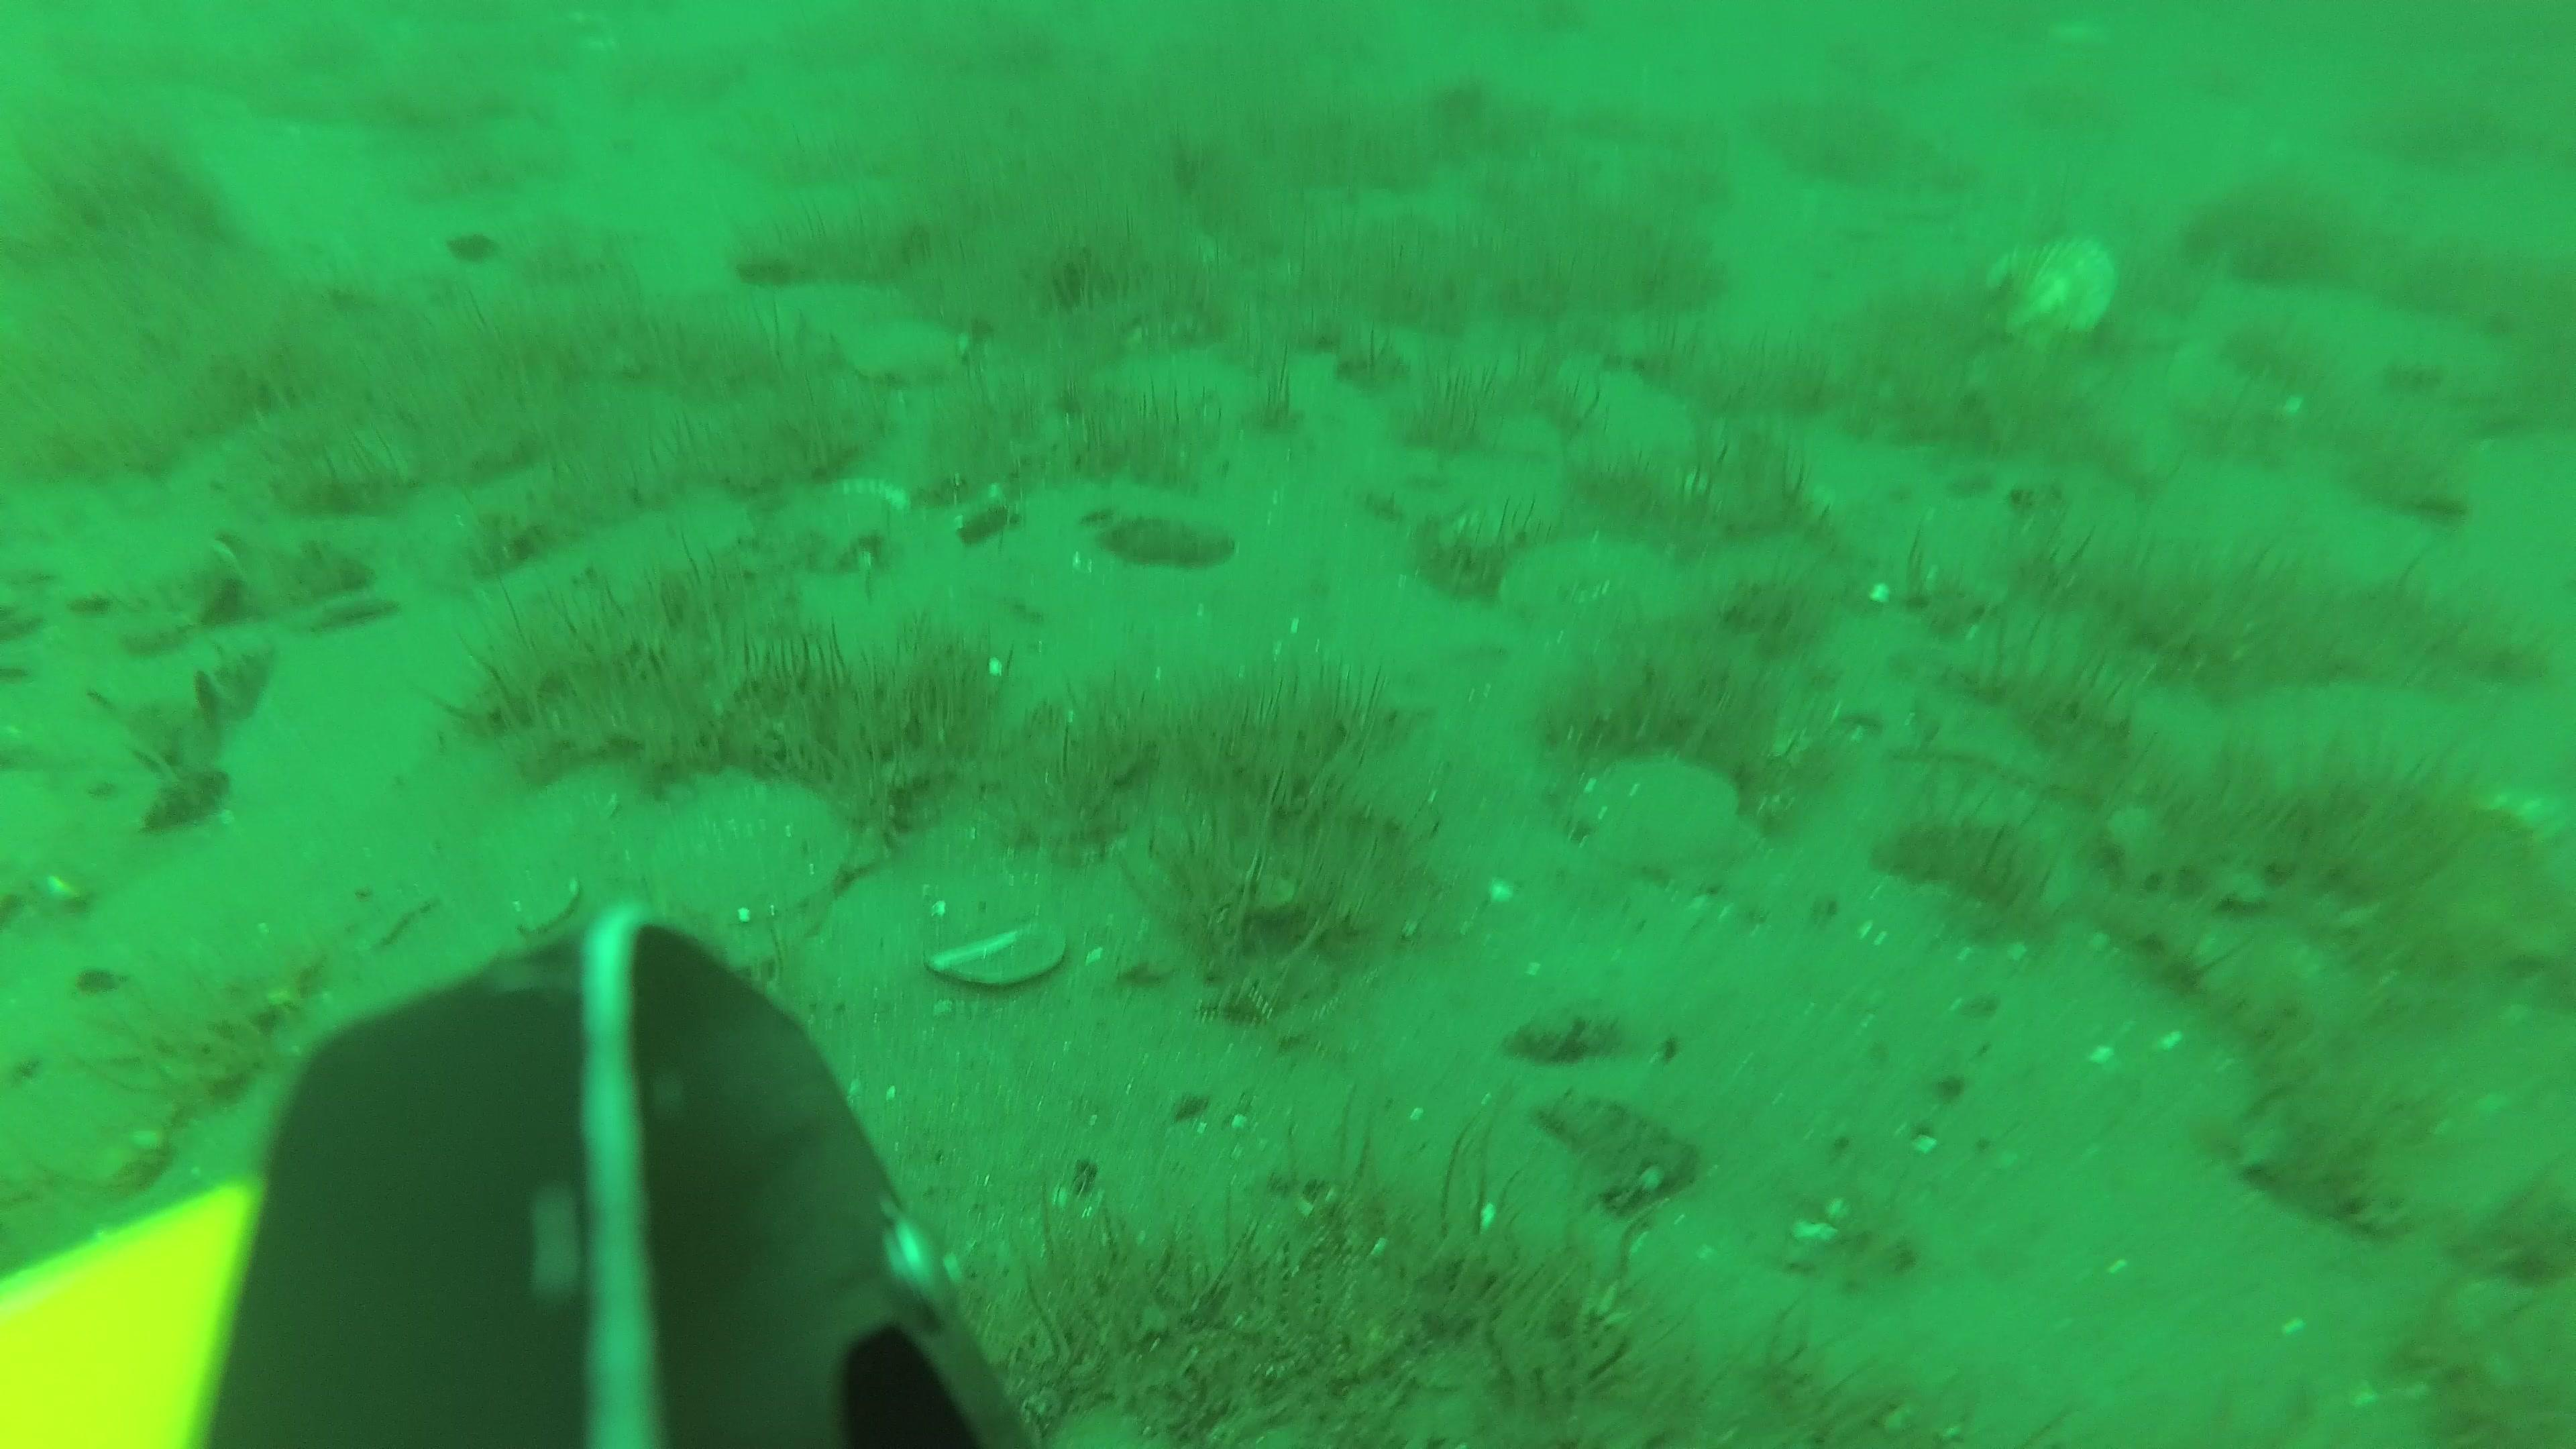scallop: (649, 780, 851, 975), (1582, 754, 1744, 885), (1509, 533, 1683, 635), (1982, 234, 2118, 349), (771, 272, 911, 338), (847, 320, 970, 382)
